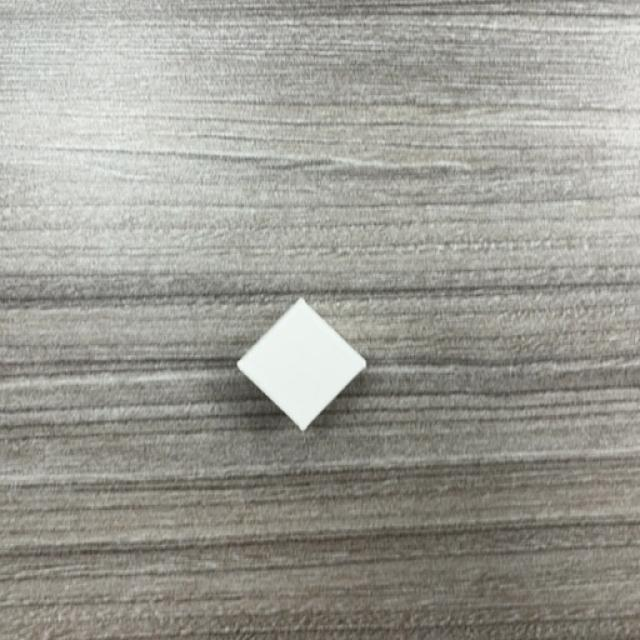Blanco: (235, 300, 368, 432)
